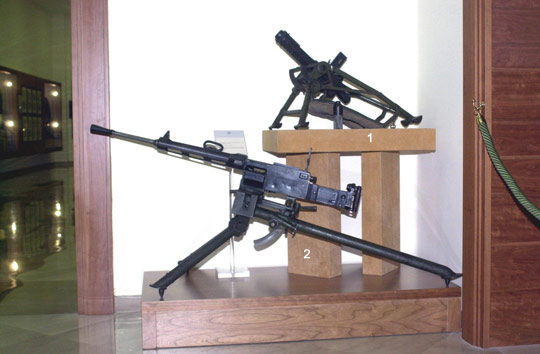rifle: (89, 112, 457, 294)
